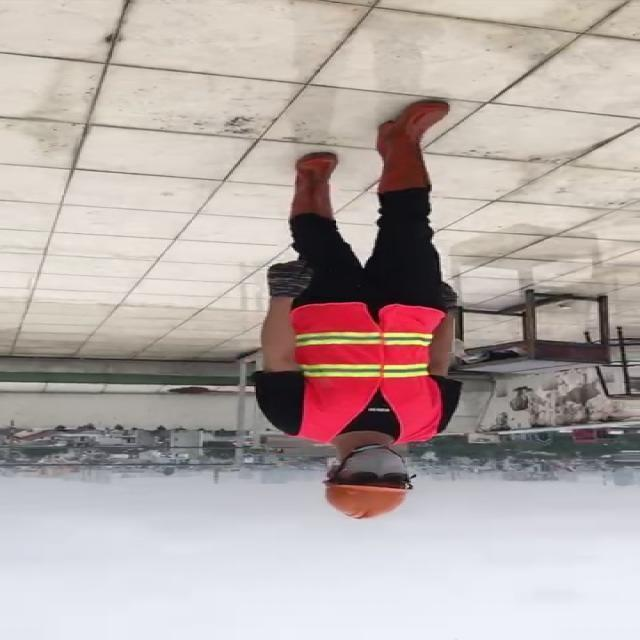Boots: (372, 100, 452, 193), (288, 152, 342, 224)
Gloves: (260, 257, 316, 300)
Helmet: (320, 479, 418, 526)
Vest: (286, 304, 455, 443)
